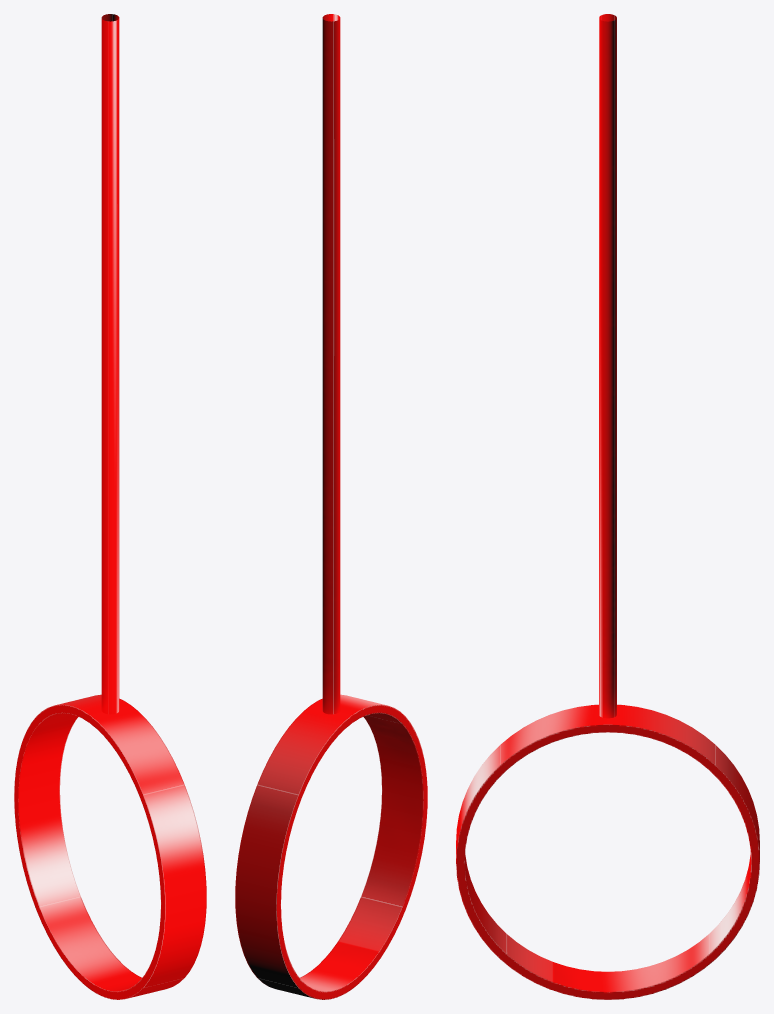
Rendered from cutter1_circle.fbx.
3 renders of one model, left to right at view 1: azimuth 30°, elevation 25°; view 2: azimuth 150°, elevation 25°; view 3: azimuth 270°, elevation 25°, orthographic.
Parts seen in each view (by area): view 1: Cutter1_Circle; view 2: Cutter1_Circle; view 3: Cutter1_Circle.
Part boxes in pixels (x1,y1,x2,y2): Cutter1_Circle: [14, 14, 206, 999]; Cutter1_Circle: [235, 14, 427, 999]; Cutter1_Circle: [456, 14, 759, 999].
Bounding box in the file's own units: 16.84 × 374 × 106.
